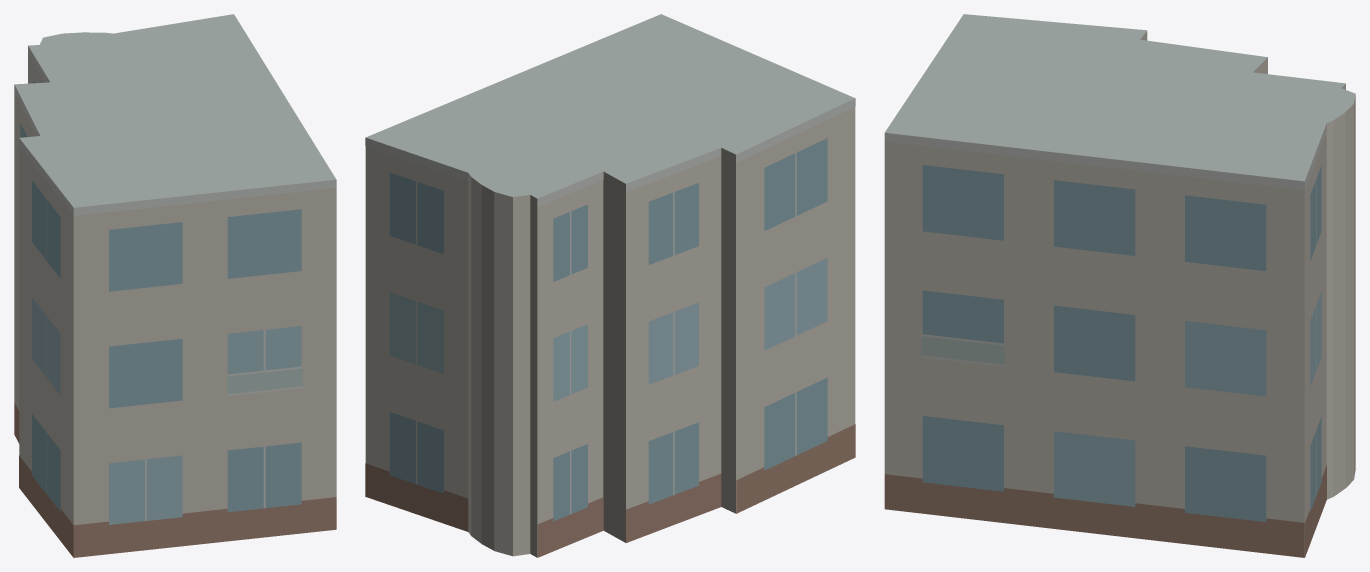
The model's file is survey-upis-32508803.glb.
3 views of the same model, side by side, from view 1: azimuth 30°, elevation 25°; view 2: azimuth 150°, elevation 25°; view 3: azimuth 270°, elevation 25° (orthographic). The views are drawn at different scales.
Parts seen in each view (by area): view 1: survey-upis-32508803.tmp; view 2: survey-upis-32508803.tmp; view 3: survey-upis-32508803.tmp.
Part boxes in pixels (box(x1,y1,x2,y2)): survey-upis-32508803.tmp: box(14, 14, 336, 557); survey-upis-32508803.tmp: box(365, 14, 855, 557); survey-upis-32508803.tmp: box(884, 14, 1355, 557).
Bounding box in the file's own units: 10.02 × 10.5 × 11.91.
